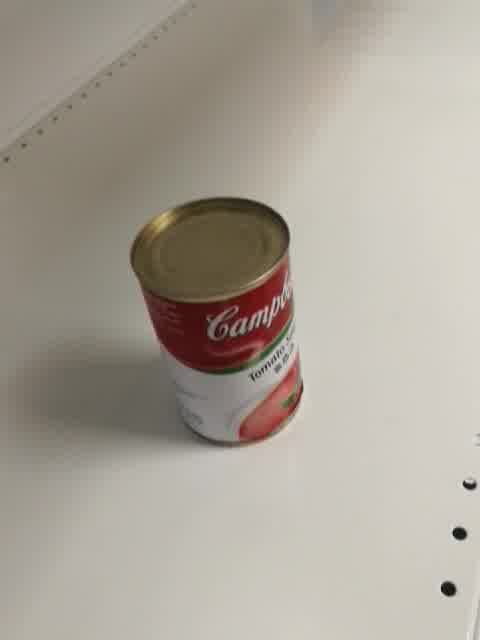tomatosoup: (128, 196, 304, 449)
